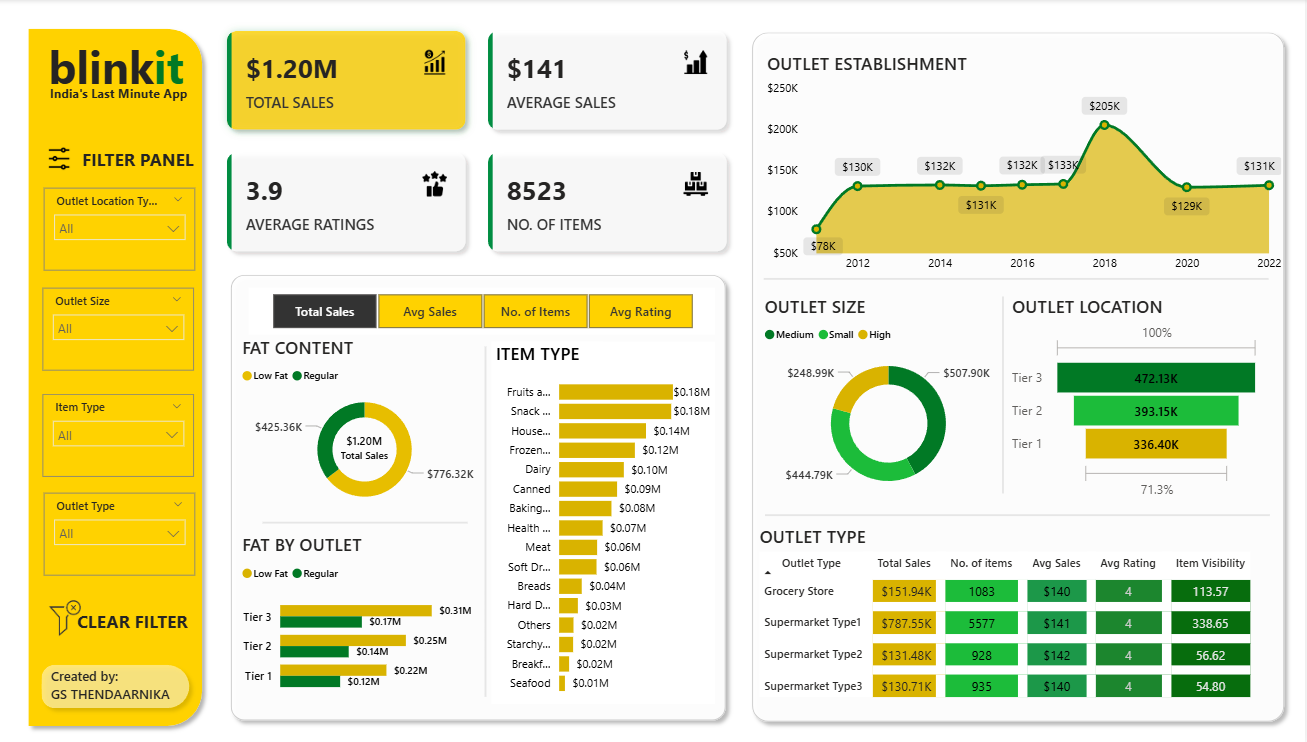

Layout of this report page (visuals, bound fields, positions):
{"tool":"powerbi","page":{"name":"BLINKIT","canvas":[1400,800],"ordinal":0},"visuals":[{"type":"shape","box":[21.4,22.9,204.3,765.7],"z":1000},{"type":"shape","box":[34.3,705.7,177.1,64.3],"z":1500},{"type":"textbox","box":[27.1,34.3,195.7,85.7],"z":2000},{"type":"textbox","box":[30,87.1,195.7,32.9],"z":3000},{"type":"cardVisual","fields":{"Data":["BlinkIT Grocery Data.Total Sales","BlinkIT Grocery Data.Average Sales","BlinkIT Grocery Data.Average Rating","BlinkIT Grocery Data.Number of items"]},"box":[227.1,17.1,570,270],"z":4000},{"type":"shape","box":[238.6,287.1,548.6,495.7],"z":5000},{"type":"donutChart","title":"FAT CONTENT","fields":{"Y":["BlinkIT Grocery Data.Total Sales"],"Category":["BlinkIT Grocery Data.Item Fat Content"]},"box":[254.3,360,272.9,192.9],"z":6000},{"type":"slicer","fields":{"Values":["Metrics.Metrics"]},"box":[266.7,310,500,50],"z":7000},{"type":"cardVisual","fields":{"Data":["BlinkIT Grocery Data.Total Sales"]},"box":[342.9,448.6,95.7,50],"z":8000},{"type":"clusteredBarChart","title":"FAT BY OUTLET","fields":{"Y":["BlinkIT Grocery Data.Total Sales"],"Category":["BlinkIT Grocery Data.Outlet Location Type"],"Series":["BlinkIT Grocery Data.Item Fat Content"]},"box":[254.3,572.9,257.1,184.3],"z":9000},{"type":"shape","box":[281.4,552.9,220,18.6],"z":10000},{"type":"shape","box":[501.4,372.9,38.6,375.7],"z":11000},{"type":"barChart","title":"ITEM TYPE","fields":{"Y":["BlinkIT Grocery Data.Total Sales"],"Category":["BlinkIT Grocery Data.Item Type"]},"box":[527.1,367.1,240,388.6],"z":12000},{"type":"shape","box":[797.1,27.1,588.6,757.1],"z":13000},{"type":"lineChart","title":"OUTLET ESTABLISHMENT","fields":{"Category":["BlinkIT Grocery Data.Outlet Establishment Year"],"Y":["BlinkIT Grocery Data.Total Sales"]},"box":[817.1,55.7,561.4,245.7],"z":14000},{"type":"shape","box":[818.6,291.4,541.4,18.6],"z":15000},{"type":"donutChart","title":"OUTLET SIZE","fields":{"Y":["BlinkIT Grocery Data.Total Sales"],"Category":["BlinkIT Grocery Data.Outlet Size"]},"box":[815.1,315.7,275.7,225.7],"z":16000},{"type":"shape","box":[1055.7,318.6,38.6,211.4],"z":17000},{"type":"funnel","title":"OUTLET LOCATION","fields":{"Category":["BlinkIT Grocery Data.Outlet Location Type"],"Y":["Sum(BlinkIT Grocery Data.Sales)"]},"box":[1080.9,315.7,275.7,225.7],"z":18000},{"type":"shape","box":[820,544.3,541.4,18.6],"z":19000},{"type":"pivotTable","title":"OUTLET TYPE","fields":{"Rows":["BlinkIT Grocery Data.Outlet Type"],"Values":["BlinkIT Grocery Data.Total Sales","BlinkIT Grocery Data.No. of items","BlinkIT Grocery Data.Avg Sales","BlinkIT Grocery Data.Avg Rating","Sum(BlinkIT Grocery Data.Item Visibility)"]},"box":[810,562.9,568.6,237.1],"z":20000},{"type":"slicer","fields":{"Values":["BlinkIT Grocery Data.Outlet Location Type"]},"box":[46.2,202.5,162.5,88.8],"z":21000},{"type":"textbox","box":[82.9,154.3,138.6,48.6],"z":22000},{"type":"image","box":[44.3,152.9,38.6,38.6],"z":23000},{"type":"textbox","box":[74.3,650,132.9,44.3],"z":24000},{"type":"image","box":[34.3,634.3,70,60],"z":25000},{"type":"textbox","box":[50,711.4,161.4,54.3],"z":26000},{"type":"slicer","fields":{"Values":["BlinkIT Grocery Data.Outlet Size"]},"box":[45,310,162.5,88.8],"z":27000},{"type":"slicer","fields":{"Values":["BlinkIT Grocery Data.Item Type"]},"box":[45,423.8,162.5,88.8],"z":28000},{"type":"actionButton","box":[0,0,100,40],"z":29000},{"type":"slicer","fields":{"Values":["BlinkIT Grocery Data.Outlet Type"]},"box":[46.2,530,162.5,88.8],"z":30000}]}

Visuals, with their boxes in screenshot pixels (x1, y1, x2, y2), scaled from the page's 1400x800 canvas onto the 1307x742 screenshot:
shape: 20, 21, 211, 731
shape: 32, 655, 197, 714
textbox: 25, 32, 208, 111
textbox: 28, 81, 211, 111
cardVisual - BlinkIT Grocery Data.Total Sales x BlinkIT Grocery Data.Average Sales: 212, 16, 744, 266
shape: 223, 266, 735, 726
"FAT CONTENT" donutChart: 237, 334, 492, 513
slicer - Metrics.Metrics: 249, 288, 716, 334
cardVisual - BlinkIT Grocery Data.Total Sales: 320, 416, 409, 462
"FAT BY OUTLET" clusteredBarChart: 237, 531, 477, 702
shape: 263, 513, 468, 530
shape: 468, 346, 504, 694
"ITEM TYPE" barChart: 492, 340, 716, 701
shape: 744, 25, 1294, 727
"OUTLET ESTABLISHMENT" lineChart: 763, 52, 1287, 280
shape: 764, 270, 1270, 288
"OUTLET SIZE" donutChart: 761, 293, 1018, 502
shape: 986, 296, 1022, 492
"OUTLET LOCATION" funnel: 1009, 293, 1266, 502
shape: 766, 505, 1271, 522
"OUTLET TYPE" pivotTable: 756, 522, 1287, 741
slicer - BlinkIT Grocery Data.Outlet Location Type: 43, 188, 195, 270
textbox: 77, 143, 207, 188
image: 41, 142, 77, 178
textbox: 69, 603, 193, 644
image: 32, 588, 97, 644
textbox: 47, 660, 197, 710
slicer - BlinkIT Grocery Data.Outlet Size: 42, 288, 194, 370
slicer - BlinkIT Grocery Data.Item Type: 42, 393, 194, 475
actionButton: 0, 0, 93, 37
slicer - BlinkIT Grocery Data.Outlet Type: 43, 492, 195, 574
